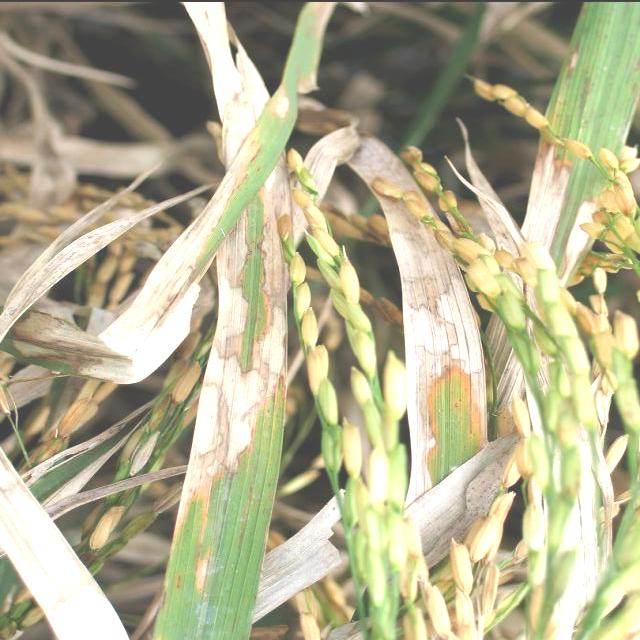Bacterial_Leaf_Blight: (332, 136, 491, 486), (168, 148, 288, 592), (123, 81, 311, 357), (516, 140, 600, 282)
